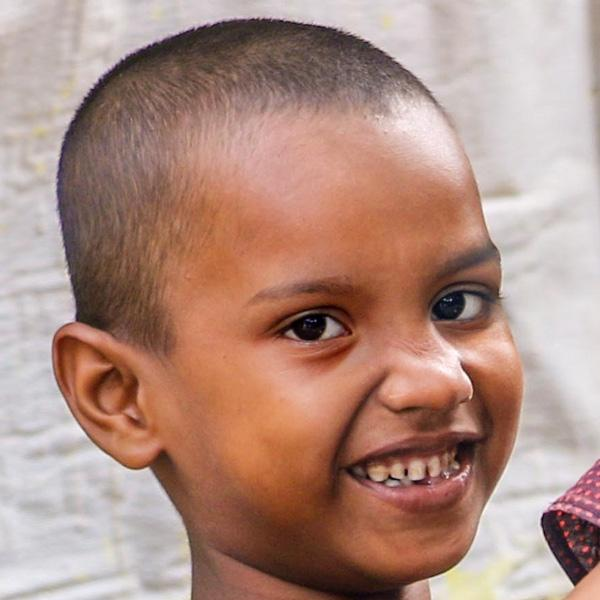Eyes: (265, 295, 361, 364), (420, 273, 502, 345)
